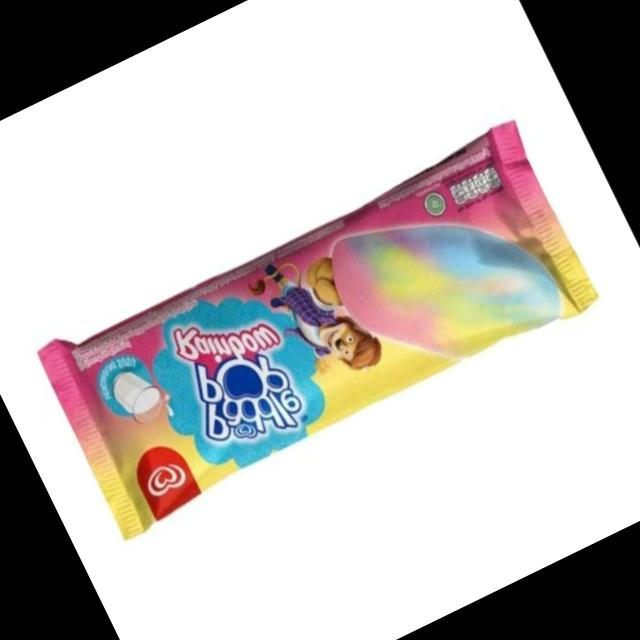KemasanPlastik: (30, 114, 607, 544)
